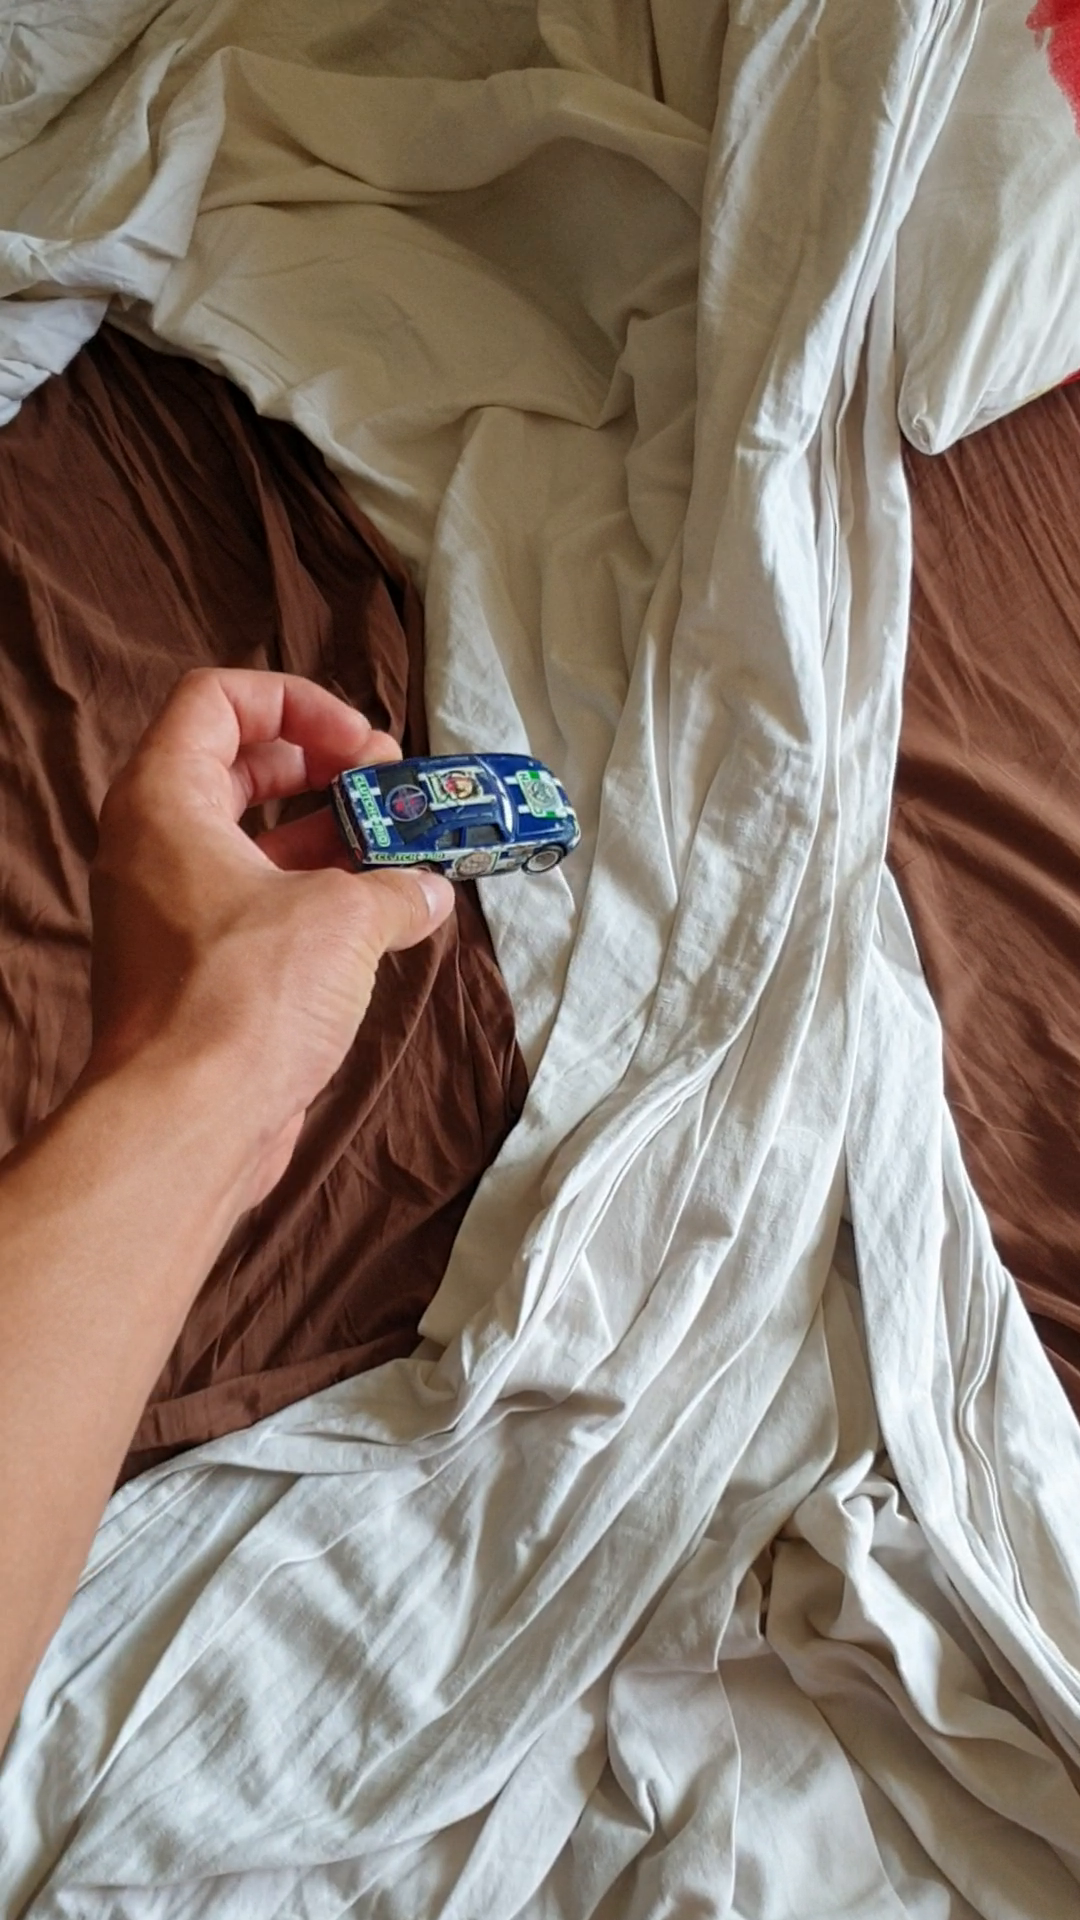cars: (334, 756, 585, 880)
